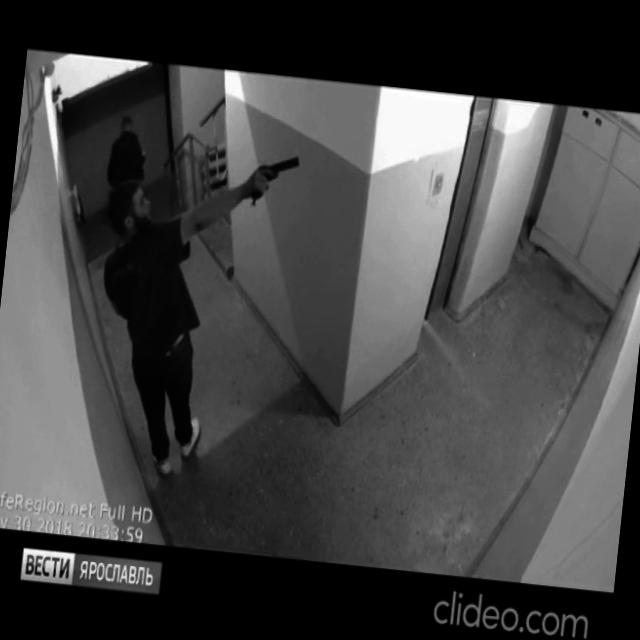gun: (248, 150, 303, 207)
person: (100, 110, 158, 246)
person with a gun: (75, 135, 304, 492)
